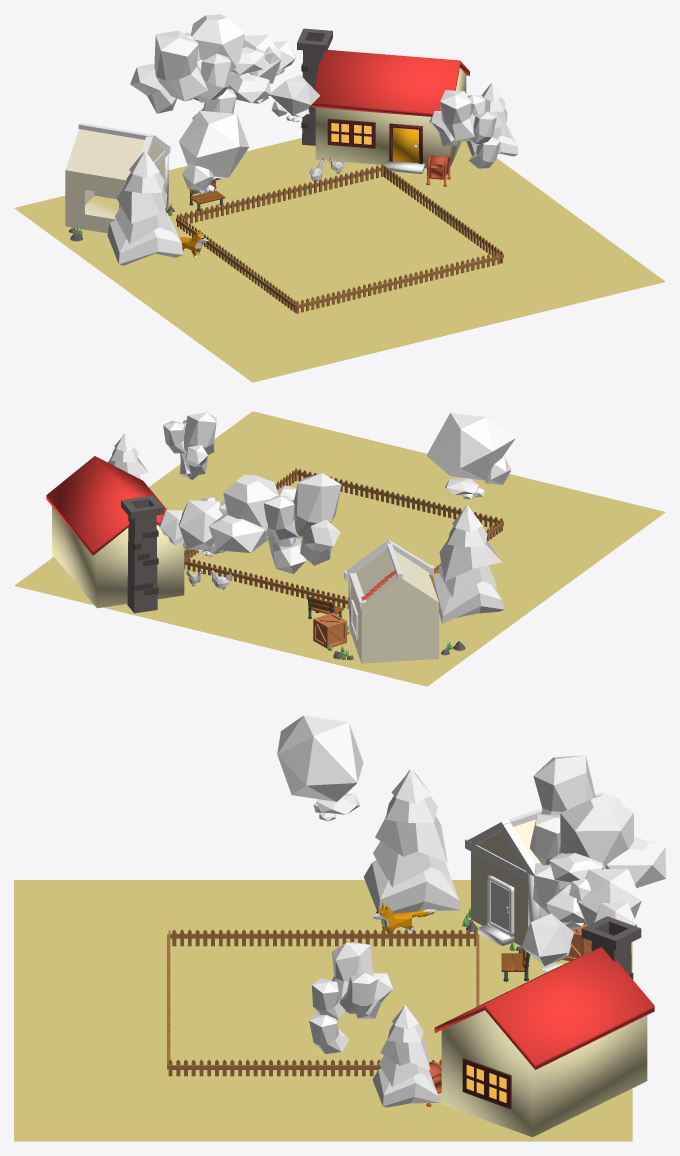
The model's file is map.glb.
The picture shows the model from 3 angles, top to bottom: view 1: azimuth 30°, elevation 25°; view 2: azimuth 150°, elevation 25°; view 3: azimuth 270°, elevation 25°; orthographic projection. The views are drawn at different scales.
Visible parts, largest first — view 1: Base, Cube.003, House, Cube.002, Icosphere.034, Icosphere.027, Front, Back, Circle, Icosphere.019, Cube.005, Right (+18 smaller); view 2: Base, House, Cube.002, Cube.003, Icosphere.034, Cube.005, Icosphere.027, Icosphere.019, Circle, Icosphere.025, Icosphere.012, Front (+17 smaller); view 3: Base, Cube.002, Cube.003, Icosphere.034, Icosphere.019, Left, House, Circle, Icosphere.027, Right, Icosphere.012, Circle.002 (+27 smaller).
Part boxes in pixels (box(x1,y1,x2,y2)): Base: box(14, 138, 665, 382); Cube.003: box(312, 50, 469, 116); House: box(65, 129, 164, 233); Cube.002: box(315, 68, 466, 168); Icosphere.034: box(179, 110, 248, 177); Icosphere.027: box(154, 30, 208, 101); Front: box(295, 251, 503, 313); Back: box(176, 164, 384, 225); Circle: box(107, 213, 182, 265); Icosphere.019: box(191, 14, 245, 70); Cube.005: box(297, 28, 332, 145); Right: box(384, 165, 503, 263); Base: box(14, 411, 665, 686); House: box(351, 549, 438, 663); Cube.002: box(52, 507, 184, 608); Cube.003: box(46, 456, 166, 555); Icosphere.034: box(426, 412, 515, 480); Cube.005: box(121, 495, 163, 613); Icosphere.027: box(293, 473, 341, 538); Icosphere.019: box(223, 474, 278, 531); Circle: box(432, 573, 504, 623); Icosphere.025: box(208, 513, 267, 552); Icosphere.012: box(178, 500, 222, 549); Front: box(297, 469, 503, 530); Base: box(14, 880, 632, 1141); Cube.002: box(441, 1010, 647, 1137); Cube.003: box(434, 947, 654, 1069); Icosphere.034: box(277, 715, 363, 801); Icosphere.019: box(560, 796, 633, 867); Left: box(170, 929, 477, 946); House: box(471, 819, 548, 946); Circle: box(363, 860, 460, 913); Icosphere.027: box(533, 755, 595, 815); Right: box(168, 1059, 441, 1076); Icosphere.012: box(576, 868, 641, 925); Circle.002: box(375, 816, 447, 862).
Bounding box in the file's own units: 80.97 × 29.85 × 84.33.
Materials: 44 (4 with a texture image).
